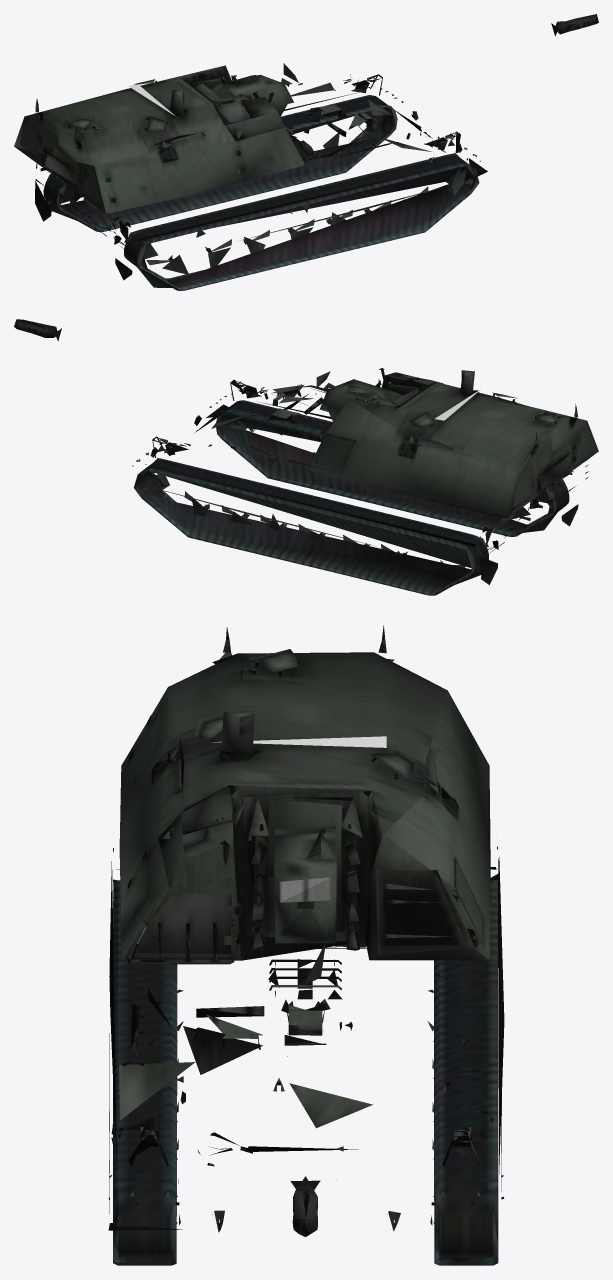
Rendered from pzh_lo.glb.
3 views of the same model, one above another, from view 1: azimuth 30°, elevation 25°; view 2: azimuth 150°, elevation 25°; view 3: azimuth 270°, elevation 25° (orthographic). The views are drawn at different scales.
Parts seen in each view (by area): view 1: g_pzh_hull, g_pzh_turret, g_pzh_gun; view 2: g_pzh_hull, g_pzh_turret, g_pzh_gun; view 3: g_pzh_turret, g_pzh_hull, g_pzh_gun.
Part boxes in pixels (x1,y1,x2,y2): g_pzh_hull: (35, 74, 487, 290); g_pzh_turret: (14, 63, 317, 213); g_pzh_gun: (291, 14, 598, 96); g_pzh_hull: (132, 379, 588, 595); g_pzh_turret: (308, 368, 598, 518); g_pzh_gun: (14, 319, 313, 407); g_pzh_turret: (119, 625, 490, 964); g_pzh_hull: (108, 846, 504, 1265); g_pzh_gun: (290, 942, 325, 1236).
Bounding box in the file's own units: 11.71 × 3.54 × 3.69.
4 materials, 3 textured.
